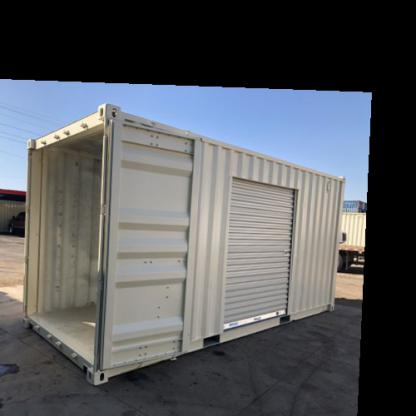Damage: (52, 150, 93, 320)
